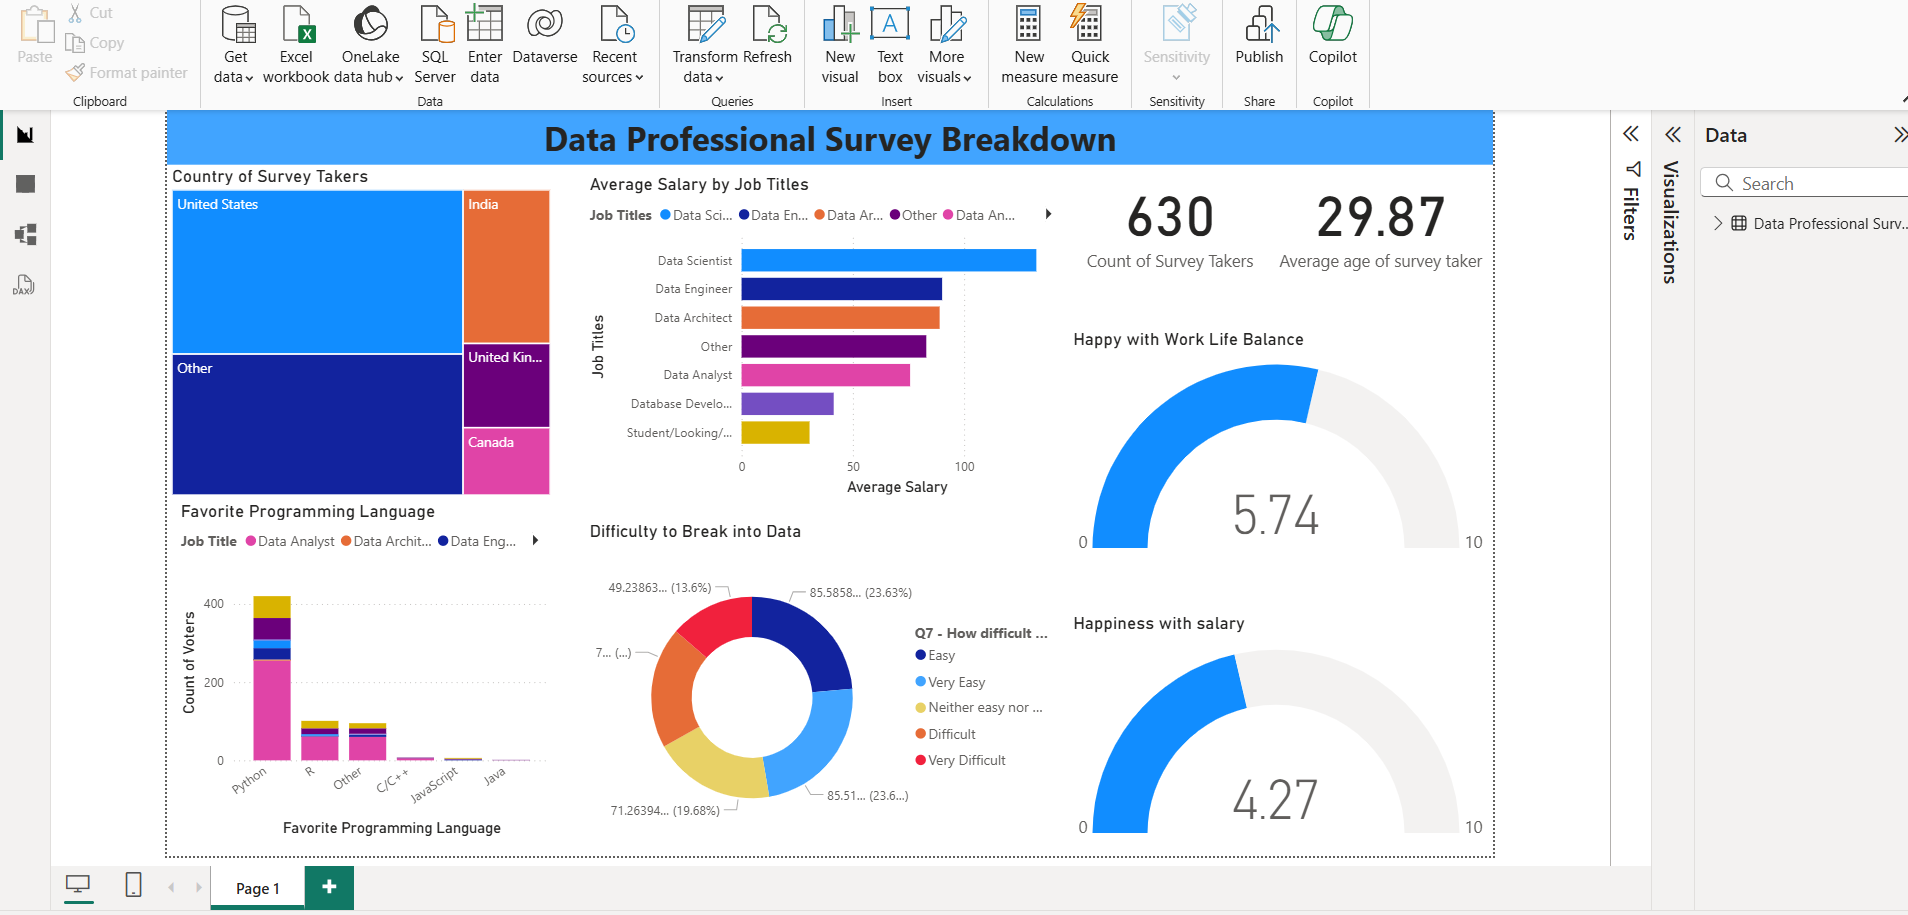

The dashboard page shown, as its layout file describes it:
{"tool":"powerbi","page":{"name":"Page 1","canvas":[1280,720],"ordinal":0},"visuals":[{"type":"textbox","box":[0,0,1280,52.5],"z":0},{"type":"card","fields":{"Values":["CountNonNull(Data Professional Survey.Unique ID)"]},"box":[861.2,52.5,213.8,107.5],"z":1000},{"type":"card","fields":{"Values":["Avg(Data Professional Survey.Q10 - Current Age)"]},"box":[1062.5,52.5,217.5,107.5],"z":2000},{"type":"barChart","title":"Average Salary by Job Titles","fields":{"Category":["Data Professional Survey.Q1 - Which Title Best Fits your Current Role?.1"],"Y":["Avg(Data Professional Survey.Average Salary)"],"Series":["Data Professional Survey.Q1 - Which Title Best Fits your Current Role?.1"]},"box":[402.5,61.2,467.5,315],"z":3000},{"type":"columnChart","title":" Favorite Programming Language","fields":{"Category":["Data Professional Survey.Q5 - Favorite Programming Language.1"],"Y":["CountNonNull(Data Professional Survey.Unique ID)"],"Series":["Data Professional Survey.Q1 - Which Title Best Fits your Current Role?.1"]},"box":[8.8,376.2,366.2,330],"z":4000},{"type":"treemap","title":"Country of Survey Takers","fields":{"Group":["Data Professional Survey.Q11 - Which Country do you live in?.1"],"Values":["CountNonNull(Data Professional Survey.Q11 - Which Country do you live in?.1)"]},"box":[0,52.5,375,323.8],"z":5000},{"type":"gauge","title":"Happy with Work Life Balance","fields":{"Y":["Avg(Data Professional Survey.Q6 - How Happy are you in your Current Position with the following? (Work/Life Balance))"],"MinValue":["Min(Data Professional Survey.Q6 - How Happy are you in your Current Position with the following? (Work/Life Balance))1"],"MaxValue":["Max(Data Professional Survey.Q6 - How Happy are you in your Current Position with the following? (Work/Life Balance))2"]},"box":[870,211.2,410,232.5],"z":6000},{"type":"gauge","title":"Happiness with salary","fields":{"Y":["Avg(Data Professional Survey.Q6 - How Happy are you in your Current Position with the following? (Salary))"],"MinValue":["Min(Data Professional Survey.Q6 - How Happy are you in your Current Position with the following? (Salary))"],"MaxValue":["Max(Data Professional Survey.Q6 - How Happy are you in your Current Position with the following? (Salary))1"]},"box":[870,485,410,235],"z":7000},{"type":"donutChart","title":"Difficulty to Break into Data","fields":{"Category":["Data Professional Survey.Q7 - How difficult was it for you to break into Data?","Data Professional Survey.Q9 - Male/Female?"],"Y":["Avg(Data Professional Survey.Average Salary)"]},"box":[402.5,396.2,458.8,323.8],"z":8000}]}

Visuals, with their boxes on the page's 1280x720 design canvas (x1, y1, x2, y2). These are canvas units, not pixel positions in the 1908x915 screenshot, which may show the page scaled, cropped or inside an application window:
textbox: rect(0, 0, 1280, 52)
card - CountNonNull(Data Professional Survey.Unique ID): rect(861, 52, 1075, 160)
card - Avg(Data Professional Survey.Q10 - Current Age): rect(1062, 52, 1280, 160)
"Average Salary by Job Titles" barChart: rect(402, 61, 870, 376)
" Favorite Programming Language" columnChart: rect(9, 376, 375, 706)
"Country of Survey Takers" treemap: rect(0, 52, 375, 376)
"Happy with Work Life Balance" gauge: rect(870, 211, 1280, 444)
"Happiness with salary" gauge: rect(870, 485, 1280, 720)
"Difficulty to Break into Data" donutChart: rect(402, 396, 861, 720)
